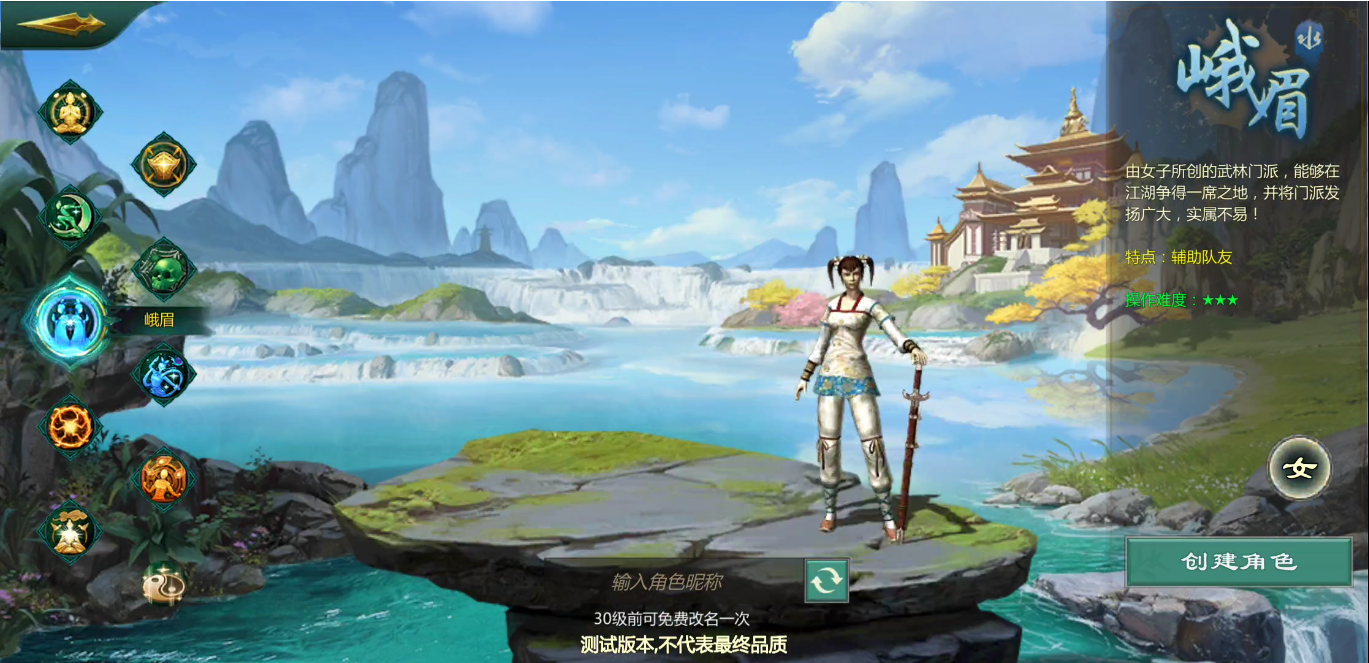cuiyan: (128, 340, 199, 414)
gaibang: (33, 389, 103, 462)
kunlun: (126, 550, 201, 624)
name: (807, 559, 850, 604)
shaolin: (33, 77, 106, 149)
tangmen: (34, 182, 103, 257)
tianren: (122, 441, 199, 518)
tianwang: (128, 129, 201, 202)
wudang: (26, 494, 108, 570)
wudu: (126, 232, 201, 305)
